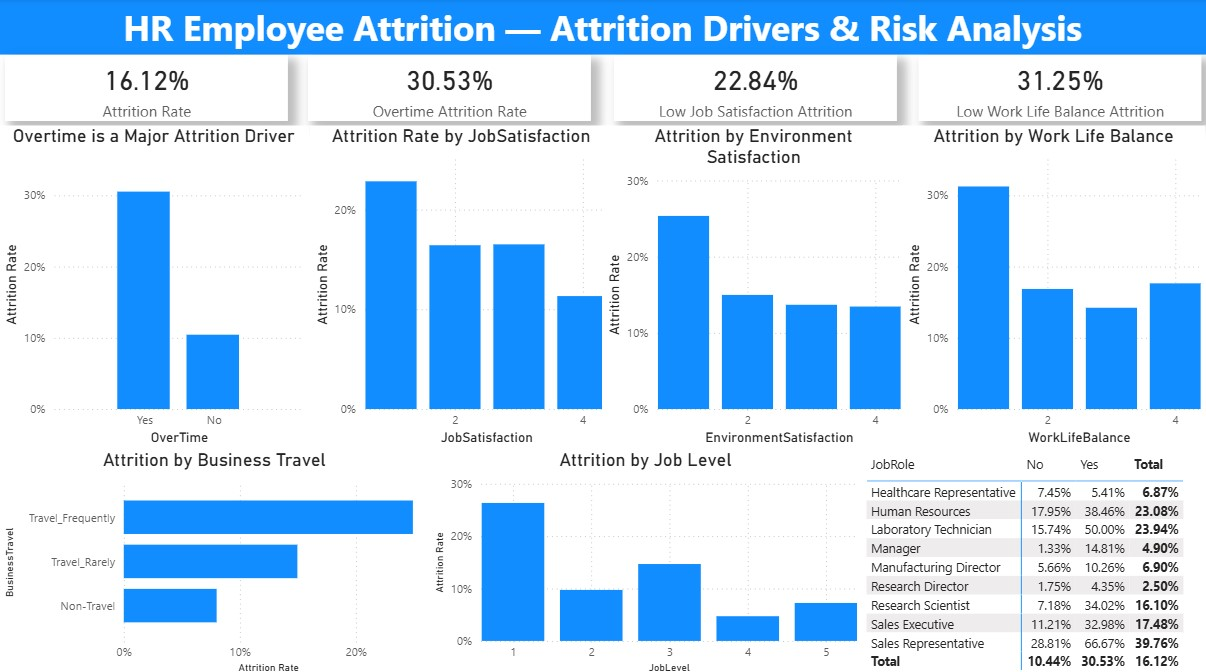

What the dashboard file says about the page in this screenshot:
{"tool":"powerbi","page":{"name":"Attrition Drivers & Risk Analysis","canvas":[1280,720],"ordinal":1},"visuals":[{"type":"textbox","box":[0,0,1280,60],"z":0},{"type":"card","fields":{"Values":["project8_hr_employee_attrition_cleaned.Attrition Rate"]},"box":[6.7,60,300,70],"z":1000},{"type":"card","fields":{"Values":["project8_hr_employee_attrition_cleaned.Overtime Attrition Rate"]},"box":[328.3,60,300,70],"z":2000},{"type":"card","fields":{"Values":["project8_hr_employee_attrition_cleaned.Low Job Satisfaction Attrition"]},"box":[651.7,60,300,70],"z":3000},{"type":"card","fields":{"Values":["project8_hr_employee_attrition_cleaned.Low Work Life Balance Attrition"]},"box":[975,60,300,70],"z":4000},{"type":"clusteredColumnChart","title":"Overtime is a Major Attrition Driver","fields":{"Category":["project8_hr_employee_attrition_cleaned.OverTime"],"Y":["project8_hr_employee_attrition_cleaned.Attrition Rate"]},"box":[0,135,328.3,343.3],"z":5000},{"type":"clusteredColumnChart","fields":{"Y":["project8_hr_employee_attrition_cleaned.Attrition Rate"],"Category":["project8_hr_employee_attrition_cleaned.JobSatisfaction"]},"box":[330,135,321.7,343.3],"z":6000},{"type":"clusteredColumnChart","title":"Attrition by Environment Satisfaction","fields":{"Category":["project8_hr_employee_attrition_cleaned.EnvironmentSatisfaction"],"Y":["project8_hr_employee_attrition_cleaned.Attrition Rate"]},"box":[640,135,321.7,343.3],"z":7000},{"type":"clusteredColumnChart","title":"Attrition by Work Life Balance ","fields":{"Y":["project8_hr_employee_attrition_cleaned.Attrition Rate"],"Category":["project8_hr_employee_attrition_cleaned.WorkLifeBalance"]},"box":[958.3,135,321.7,343.3],"z":8000},{"type":"clusteredBarChart","title":"Attrition  by Business Travel","fields":{"Category":["project8_hr_employee_attrition_cleaned.BusinessTravel"],"Y":["project8_hr_employee_attrition_cleaned.Attrition Rate"]},"box":[0,478.3,456.7,241.7],"z":9000},{"type":"columnChart","title":"Attrition by Job Level","fields":{"Y":["project8_hr_employee_attrition_cleaned.Attrition Rate"],"Category":["project8_hr_employee_attrition_cleaned.JobLevel"]},"box":[456.7,478.3,458.3,241.7],"z":10000},{"type":"pivotTable","fields":{"Rows":["project8_hr_employee_attrition_cleaned.JobRole"],"Columns":["project8_hr_employee_attrition_cleaned.OverTime"],"Values":["project8_hr_employee_attrition_cleaned.Attrition Rate"]},"box":[915,478.3,365,241.7],"z":11000}]}

Visuals, with their boxes in screenshot pixels (x1, y1, x2, y2), scaled from the page's 1280x720 canvas onto the 1206x672 screenshot:
textbox: crop(0, 0, 1205, 56)
card - project8_hr_employee_attrition_cleaned.Attrition Rate: crop(6, 56, 289, 121)
card - project8_hr_employee_attrition_cleaned.Overtime Attrition Rate: crop(309, 56, 592, 121)
card - project8_hr_employee_attrition_cleaned.Low Job Satisfaction Attrition: crop(614, 56, 897, 121)
card - project8_hr_employee_attrition_cleaned.Low Work Life Balance Attrition: crop(919, 56, 1201, 121)
"Overtime is a Major Attrition Driver" clusteredColumnChart: crop(0, 126, 309, 446)
clusteredColumnChart - project8_hr_employee_attrition_cleaned.Attrition Rate x project8_hr_employee_attrition_cleaned.JobSatisfaction: crop(311, 126, 614, 446)
"Attrition by Environment Satisfaction" clusteredColumnChart: crop(603, 126, 906, 446)
"Attrition by Work Life Balance " clusteredColumnChart: crop(903, 126, 1205, 446)
"Attrition  by Business Travel" clusteredBarChart: crop(0, 446, 430, 671)
"Attrition by Job Level" columnChart: crop(430, 446, 862, 671)
pivotTable - project8_hr_employee_attrition_cleaned.JobRole x project8_hr_employee_attrition_cleaned.OverTime: crop(862, 446, 1205, 671)
